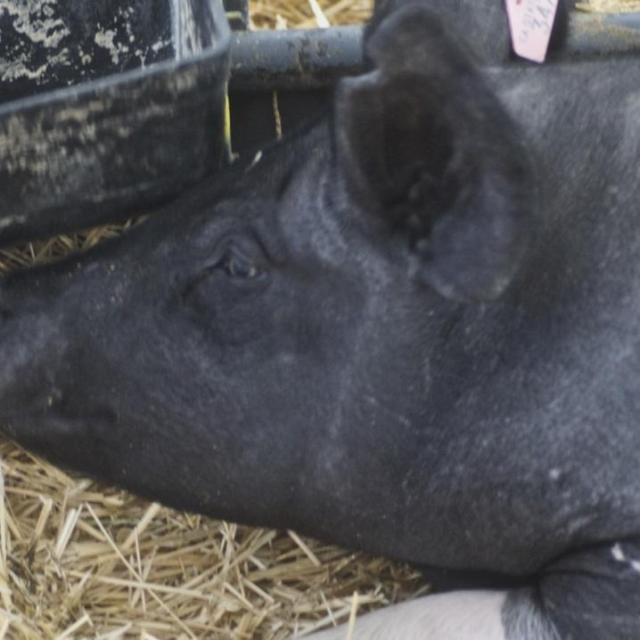pig: (3, 0, 638, 640)
